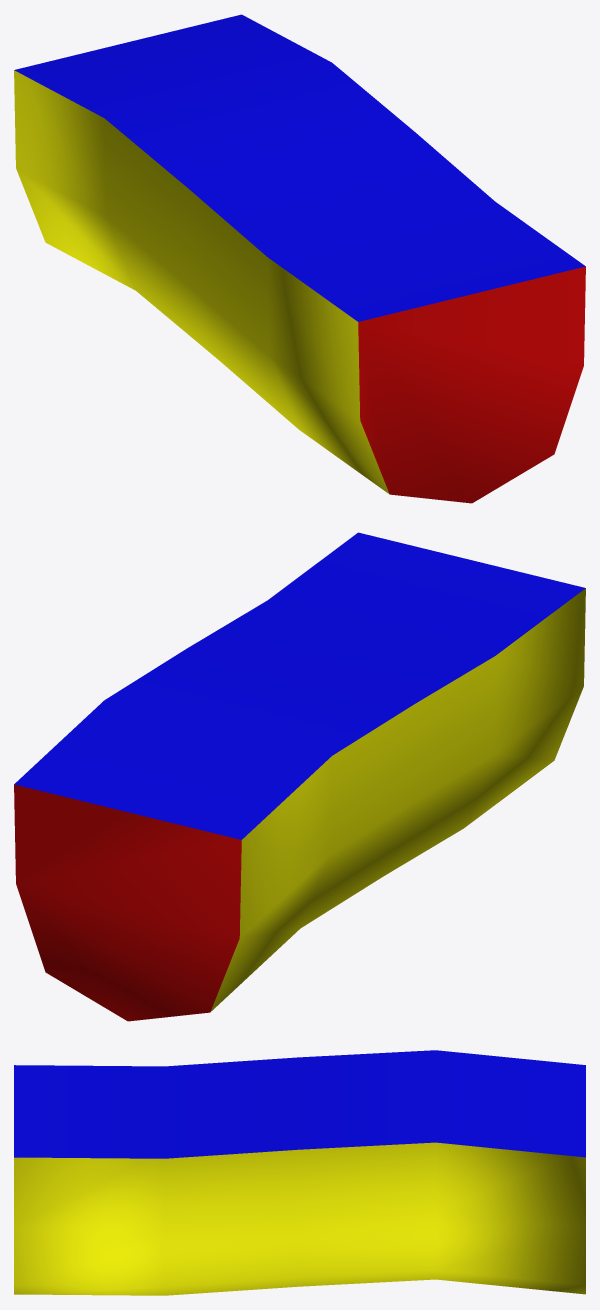
3 views of the same model, one above another, from view 1: azimuth 30°, elevation 25°; view 2: azimuth 150°, elevation 25°; view 3: azimuth 270°, elevation 25° (orthographic). The views are drawn at different scales.
Visible parts, largest first — view 1: polySurface123; view 2: polySurface123; view 3: polySurface123.
Part boxes in pixels (x1,y1,x2,y2): polySurface123: [14, 14, 585, 503]; polySurface123: [14, 532, 585, 1021]; polySurface123: [14, 1050, 585, 1295].
Size of the model in its own units: 23.58 by 22.63 by 61.72.
